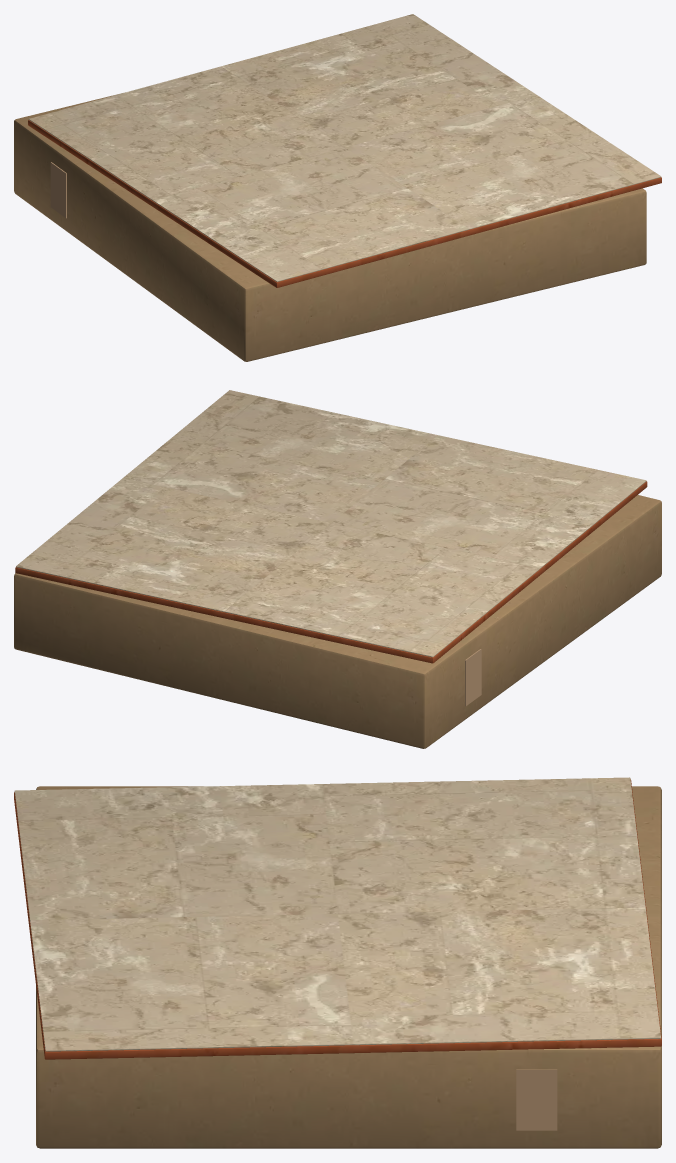
The model's file is PIS-CER-001.glb.
The picture shows the model from 3 angles, top to bottom: view 1: azimuth 30°, elevation 25°; view 2: azimuth 150°, elevation 25°; view 3: azimuth 270°, elevation 25°; orthographic projection. The views are drawn at different scales.
Parts seen in each view (by area): view 1: PIS-CER-001_face, PIS-CER-001_caixa, PIS-CER-001_corpo, PIS-CER-001_faixa; view 2: PIS-CER-001_face, PIS-CER-001_caixa, PIS-CER-001_corpo, PIS-CER-001_faixa; view 3: PIS-CER-001_face, PIS-CER-001_caixa, PIS-CER-001_corpo, PIS-CER-001_faixa.
Part boxes in pixels (x1,y1,x2,y2): PIS-CER-001_face: [28, 14, 661, 281]; PIS-CER-001_caixa: [14, 93, 646, 361]; PIS-CER-001_corpo: [28, 120, 661, 287]; PIS-CER-001_faixa: [50, 162, 66, 218]; PIS-CER-001_face: [16, 390, 646, 657]; PIS-CER-001_caixa: [14, 495, 661, 748]; PIS-CER-001_corpo: [15, 481, 647, 663]; PIS-CER-001_faixa: [465, 649, 481, 706]; PIS-CER-001_face: [14, 777, 661, 1051]; PIS-CER-001_caixa: [36, 786, 661, 1148]; PIS-CER-001_corpo: [14, 779, 661, 1059]; PIS-CER-001_faixa: [516, 1069, 557, 1130].
Bounding box in the file's own units: 0.4769 × 0.0891 × 0.4719.
6 materials, 4 textured.
